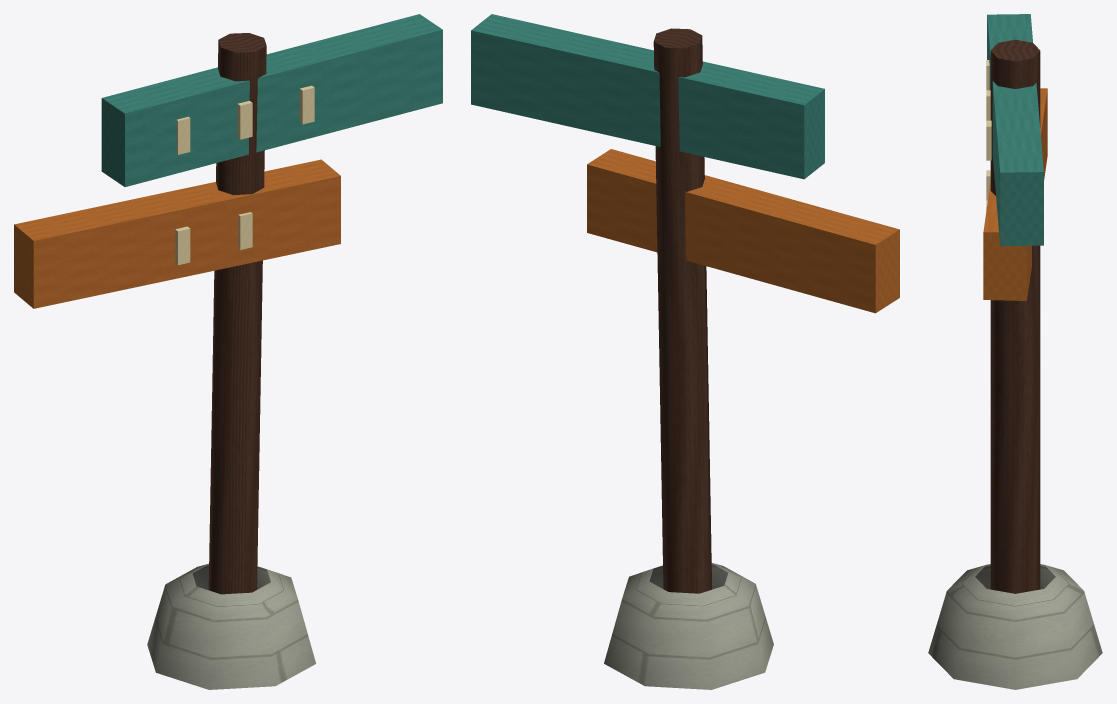
File: route_post.glb
3 views of the same model, side by side, from view 1: azimuth 30°, elevation 25°; view 2: azimuth 150°, elevation 25°; view 3: azimuth 270°, elevation 25° (orthographic).
Parts seen in each view (by area): view 1: route_post; view 2: route_post; view 3: route_post.
Boxes of the visible parts, x1,y1,x2,y2 form: route_post: [14, 14, 442, 689]; route_post: [471, 14, 899, 689]; route_post: [928, 14, 1102, 689].
Bounding box in the file's own units: 1.51 × 2.15 × 0.56.
Materials: 5 (5 with a texture image).
